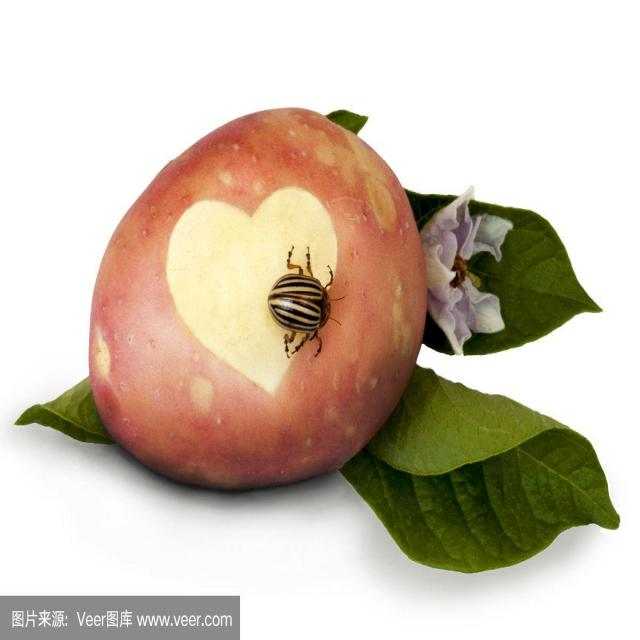ShuCaiHuaBanChong-Grown-: (269, 243, 341, 360)
